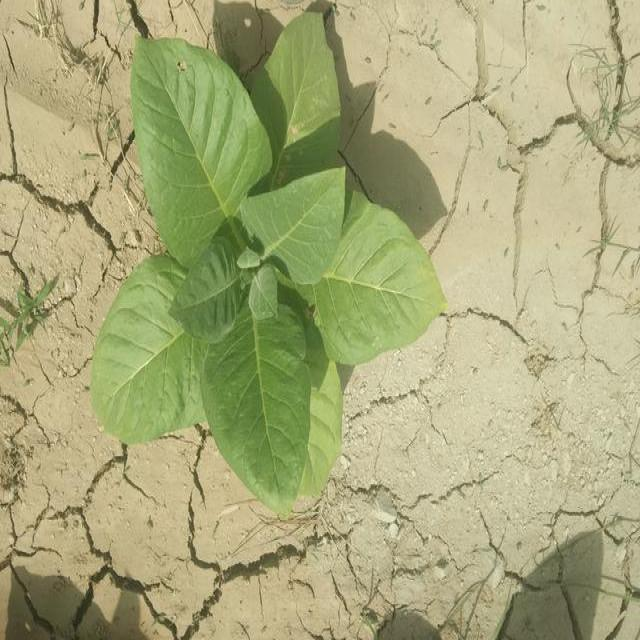crop: (98, 12, 444, 507)
